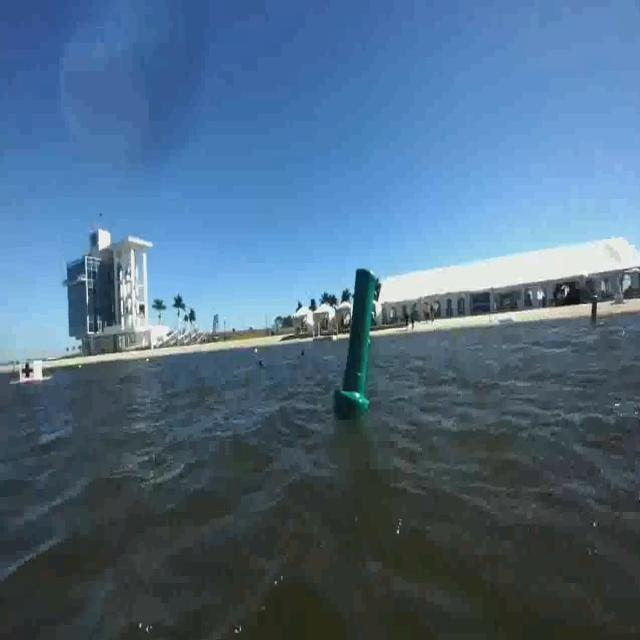green-column-buoy: (336, 266, 378, 414)
